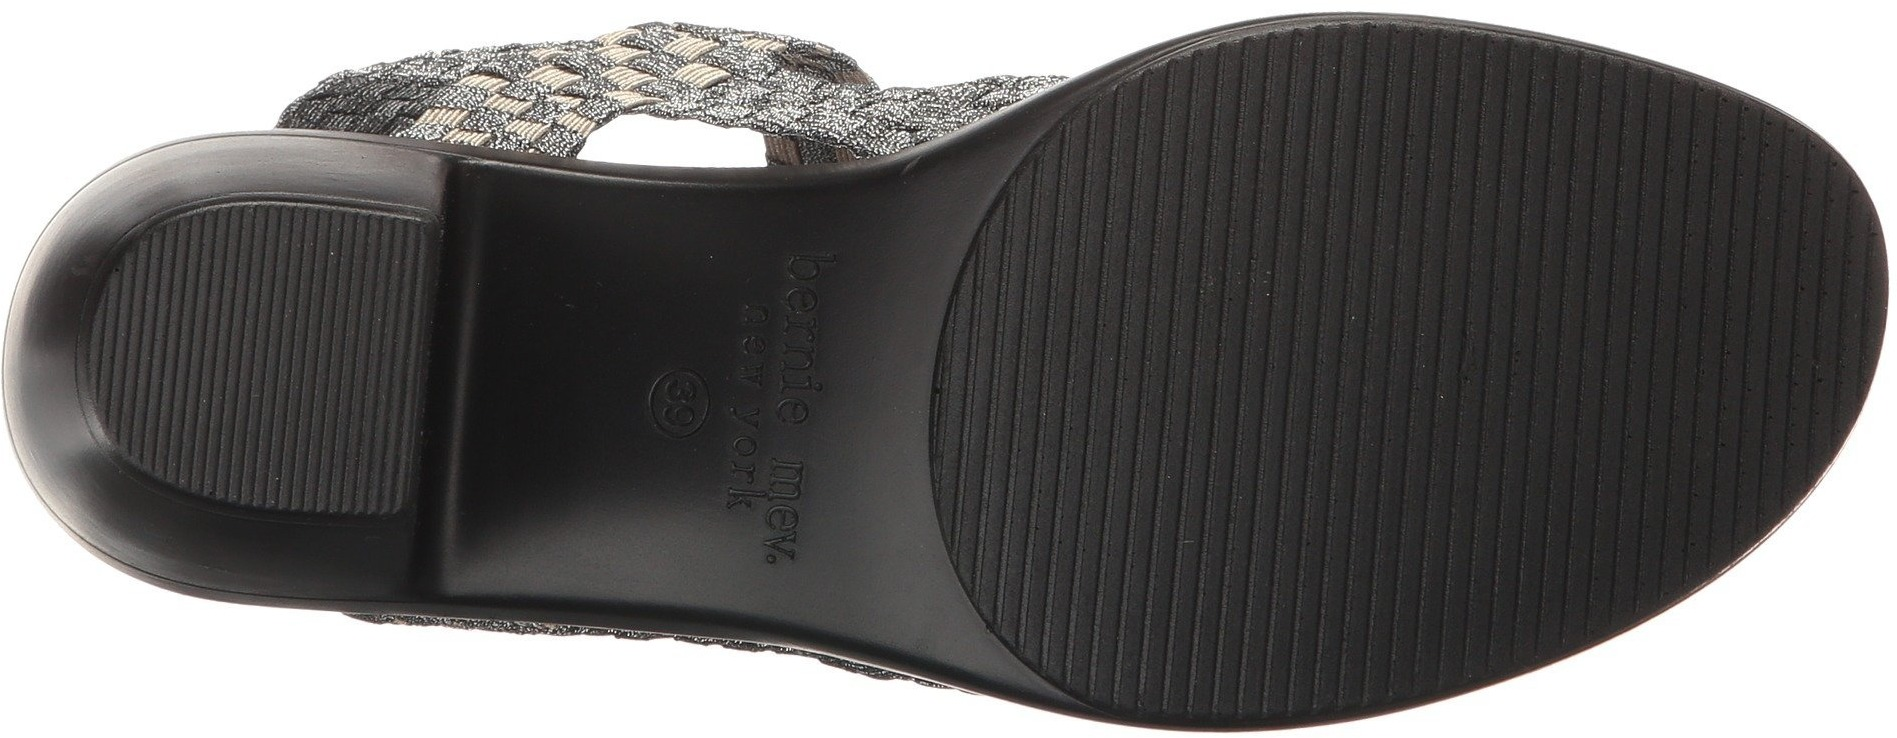other: (1025, 179, 1395, 558), (1403, 254, 1699, 558), (169, 240, 406, 482), (1400, 45, 1599, 249), (1701, 233, 1853, 405), (1182, 561, 1339, 699), (1242, 34, 1394, 172), (1607, 91, 1752, 226), (1347, 564, 1469, 688)
text: (713, 352, 838, 448), (705, 462, 818, 566), (730, 246, 831, 338)
